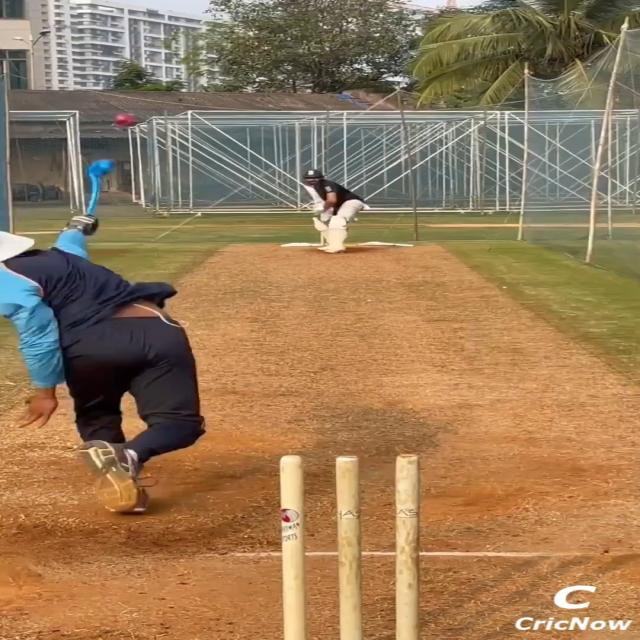ball: (112, 112, 142, 130)
stump: (276, 450, 425, 640)
